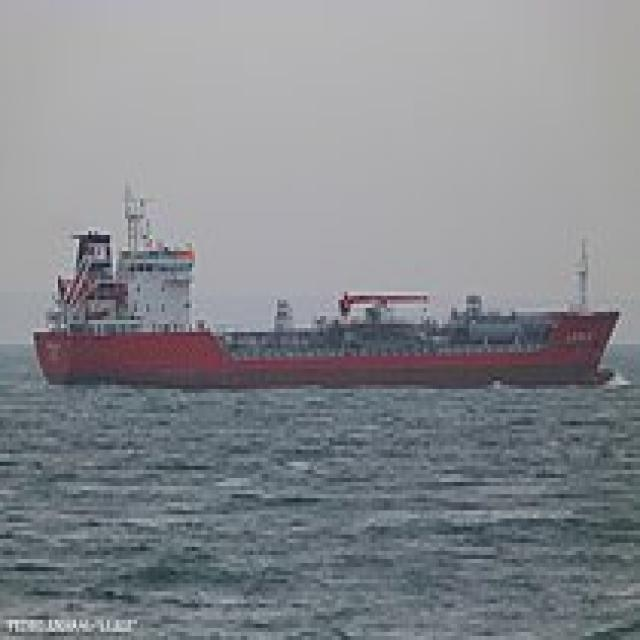Tanker: (27, 178, 618, 385)
